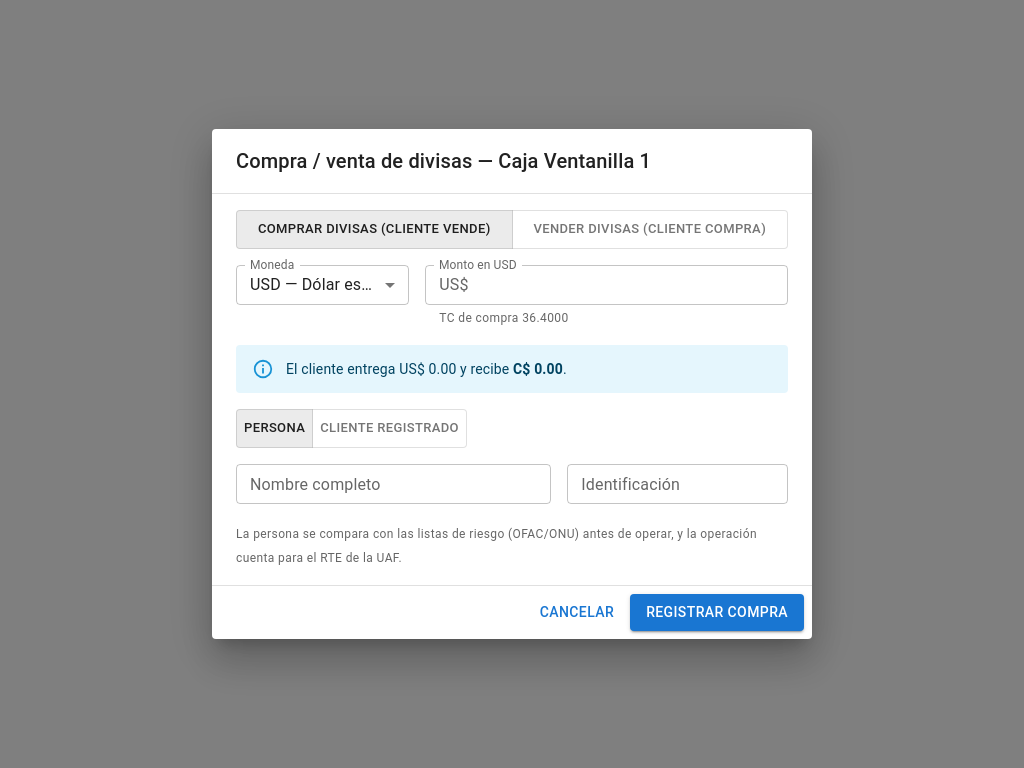
Test: Compra / venta de divisas › muestra el rechazo del tamizaje de listas
The width and height of the screenshot is (1024, 768).
Type "100" into the number field labelled "Monto en USD" at (632, 285), box [477,265,788,305]
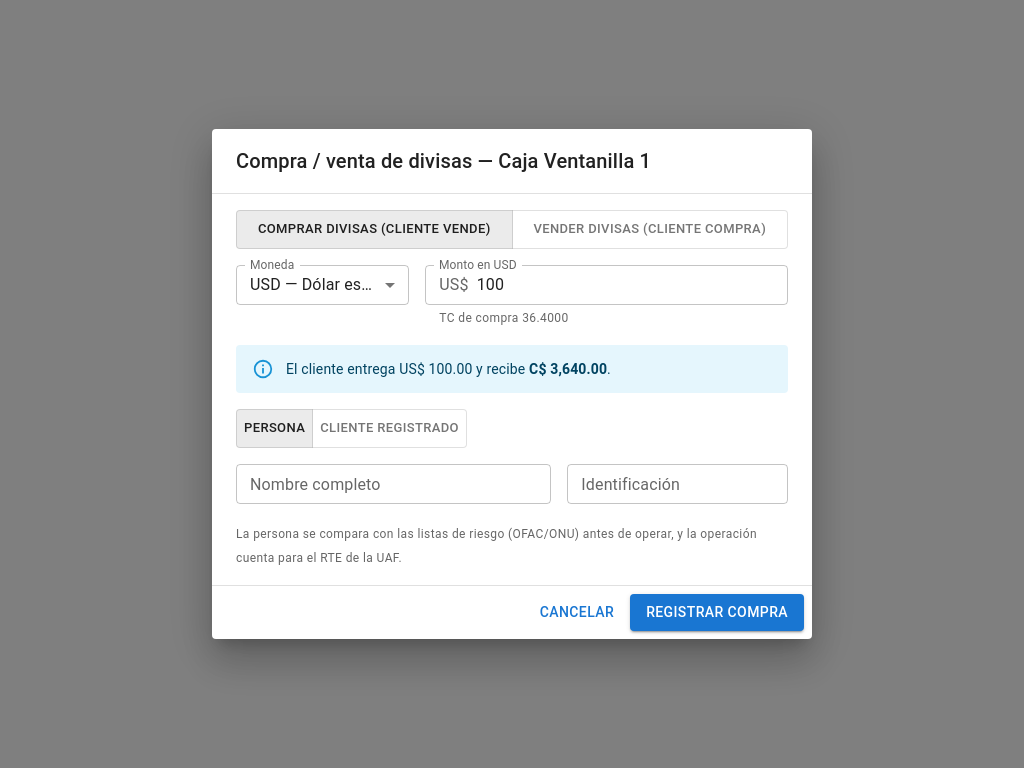
Type "Juan Pérez" into the field labelled "Nombre completo" at (394, 484), box [236,464,551,504]
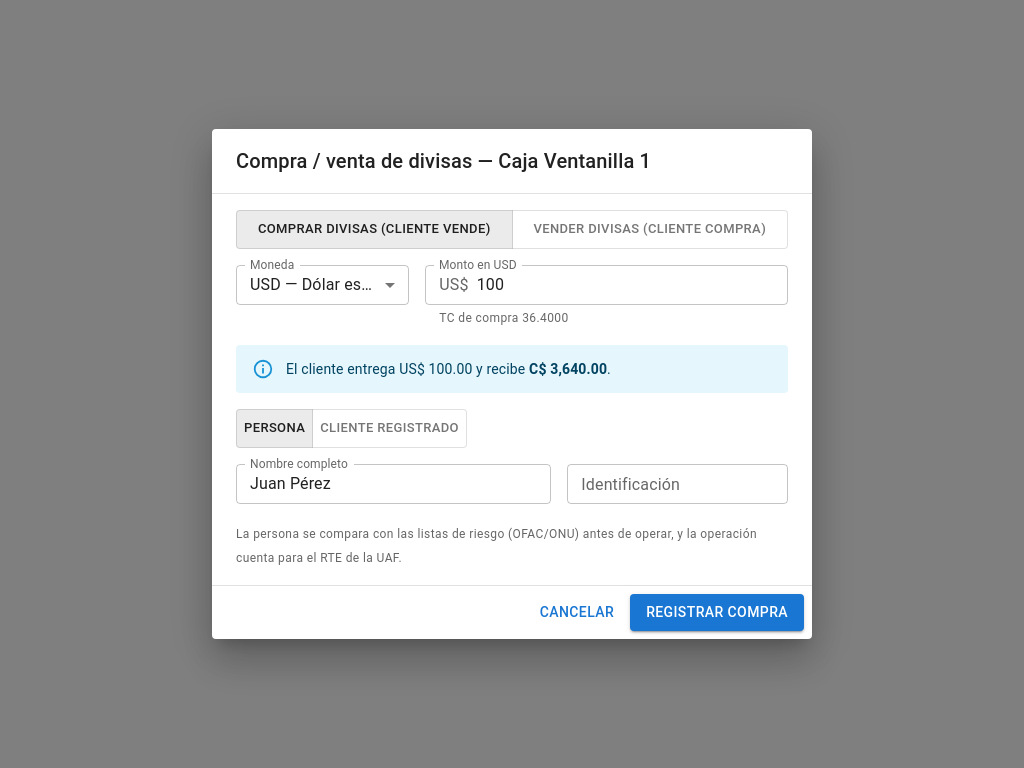
Type "X1" into the field labelled "Identificación" at (678, 484), box [567,464,788,504]
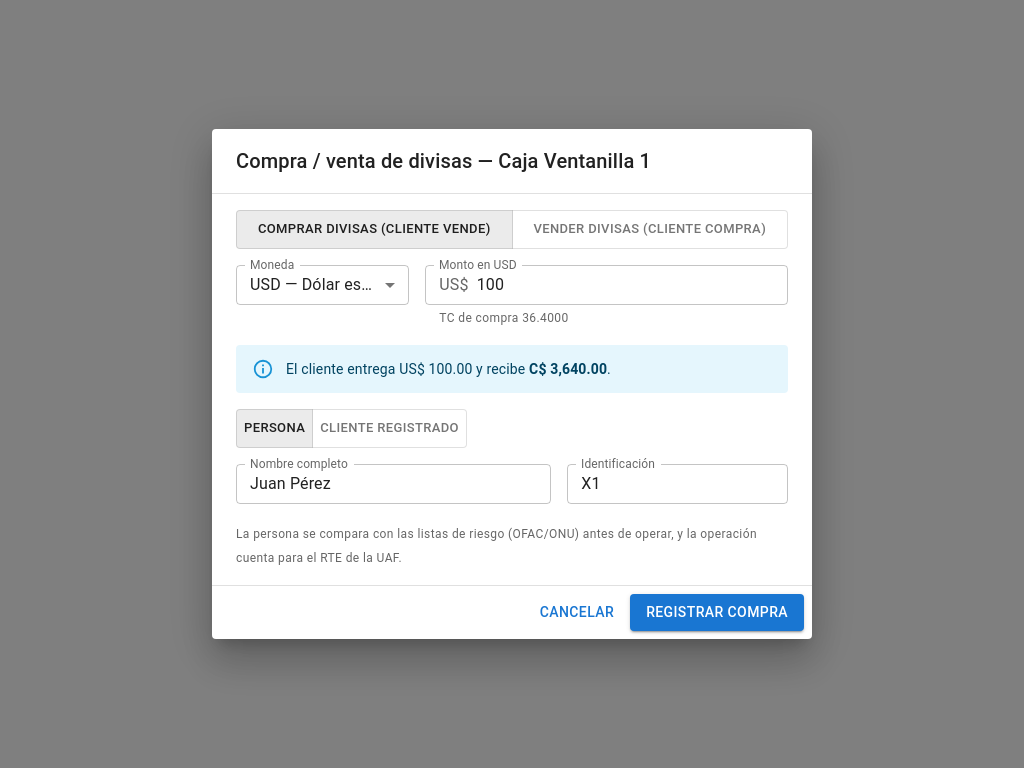
Click the button "Registrar compra" at (717, 613), box [630,594,804,631]
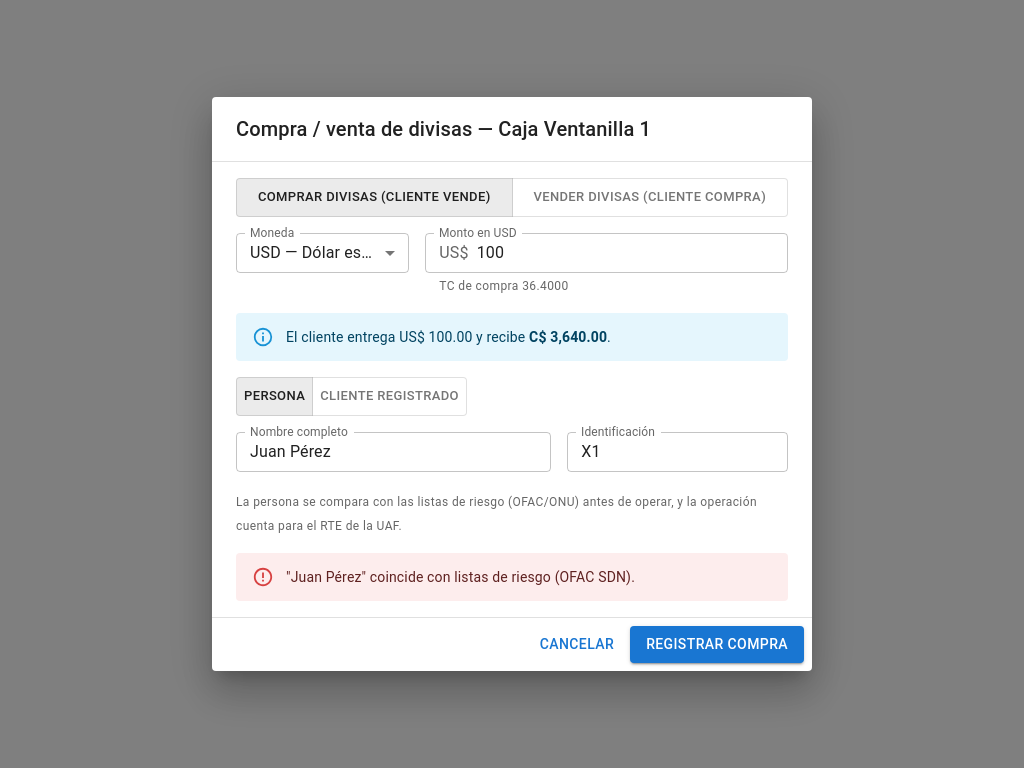
Expected: the text "\"Juan Pérez\" coincide con listas de riesgo (OFAC SDN)." is shown, [286,569,635,585]
